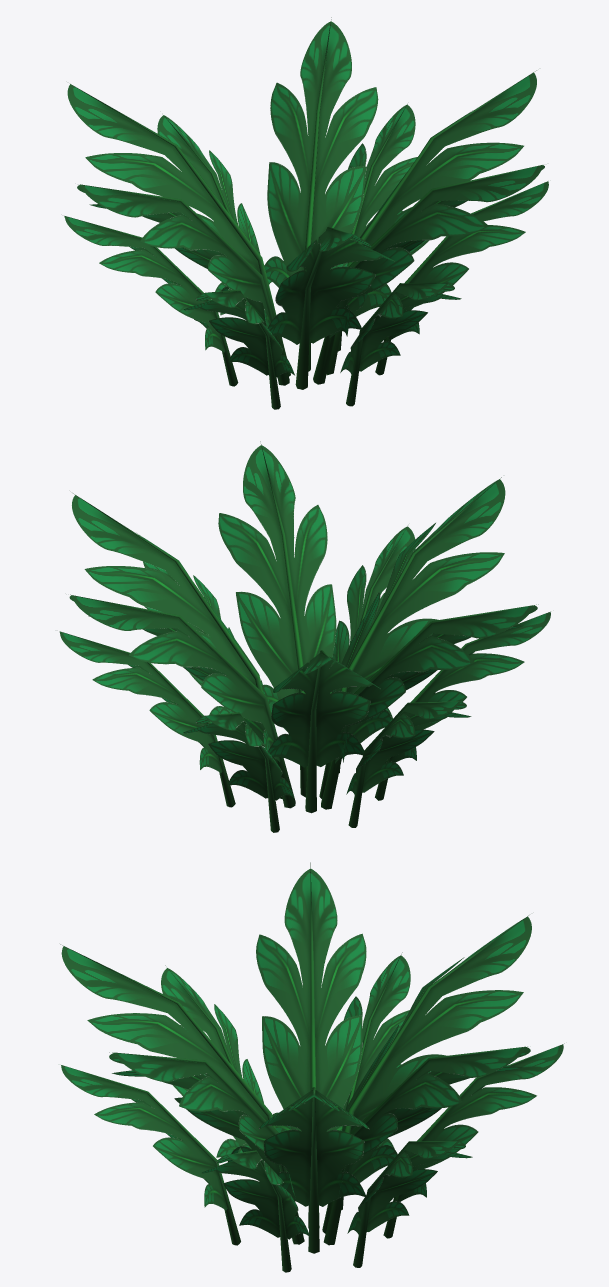
File: Bush2B.glb
3 views of the same model, one above another, from view 1: azimuth 30°, elevation 25°; view 2: azimuth 150°, elevation 25°; view 3: azimuth 270°, elevation 25° (orthographic). The views are drawn at different scales.
Parts seen in each view (by area): view 1: Bush_03; view 2: Bush_03; view 3: Bush_03.
Boxes of the visible parts, <box> form: Bush_03: <box>64,17,548,409</box>; Bush_03: <box>59,441,550,832</box>; Bush_03: <box>60,862,564,1272</box>.
Bounding box in the file's own units: 55.96 × 27.13 × 54.32.
Materials: 1 (1 with a texture image).
